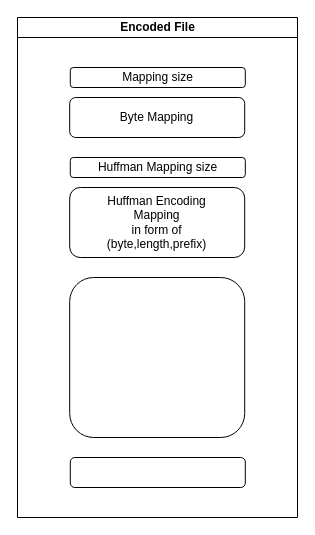
This 315x535 diagram has some shape labels left out. Each missing label, with the centre of its shape:
"Data to encode (encoded as Huffman prefix free codes)" belongs at (x=157, y=357).
"Number of runs per bit position" belongs at (x=157, y=472).
